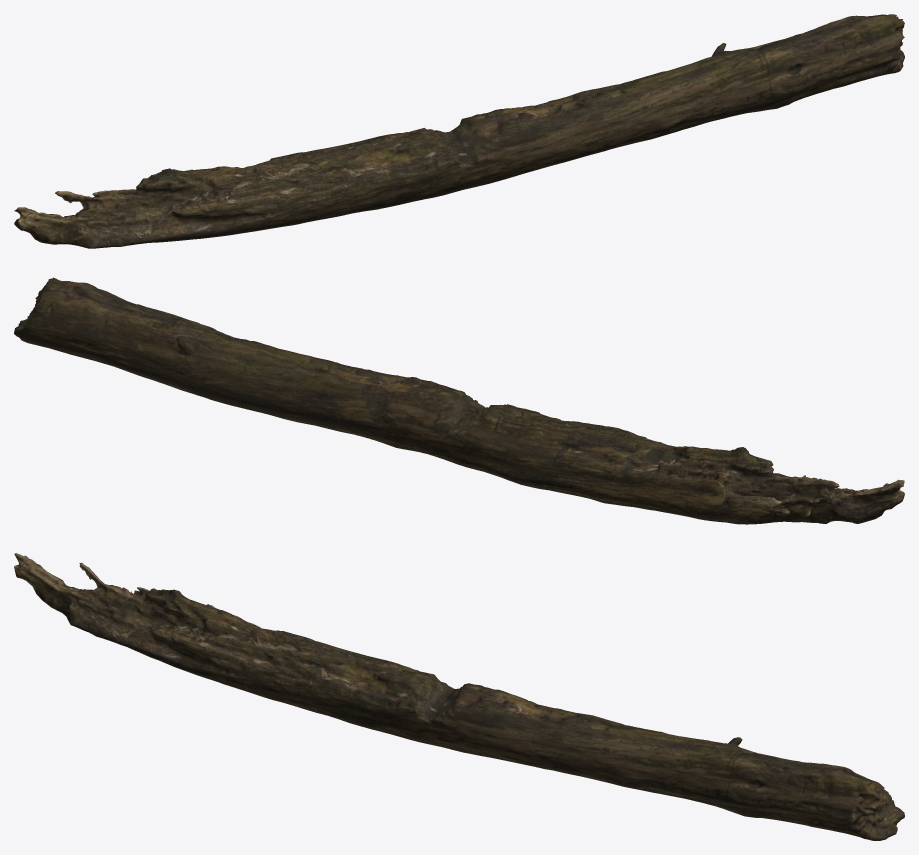
The model's file is dead-tree-trunk.glb.
3 renders of one model, top to bottom at view 1: azimuth 30°, elevation 25°; view 2: azimuth 150°, elevation 25°; view 3: azimuth 330°, elevation 25°, orthographic.
Parts seen in each view (by area): view 1: dead_tree_trunk; view 2: dead_tree_trunk; view 3: dead_tree_trunk.
Part boxes in pixels (x1=…): dead_tree_trunk: x1=14, y1=14, x2=904, y2=248; dead_tree_trunk: x1=14, y1=277, x2=904, y2=524; dead_tree_trunk: x1=14, y1=553, x2=904, y2=840.
Size of the model in its own units: 3.05 by 0.2896 by 0.2772.
1 material, 1 textured.
